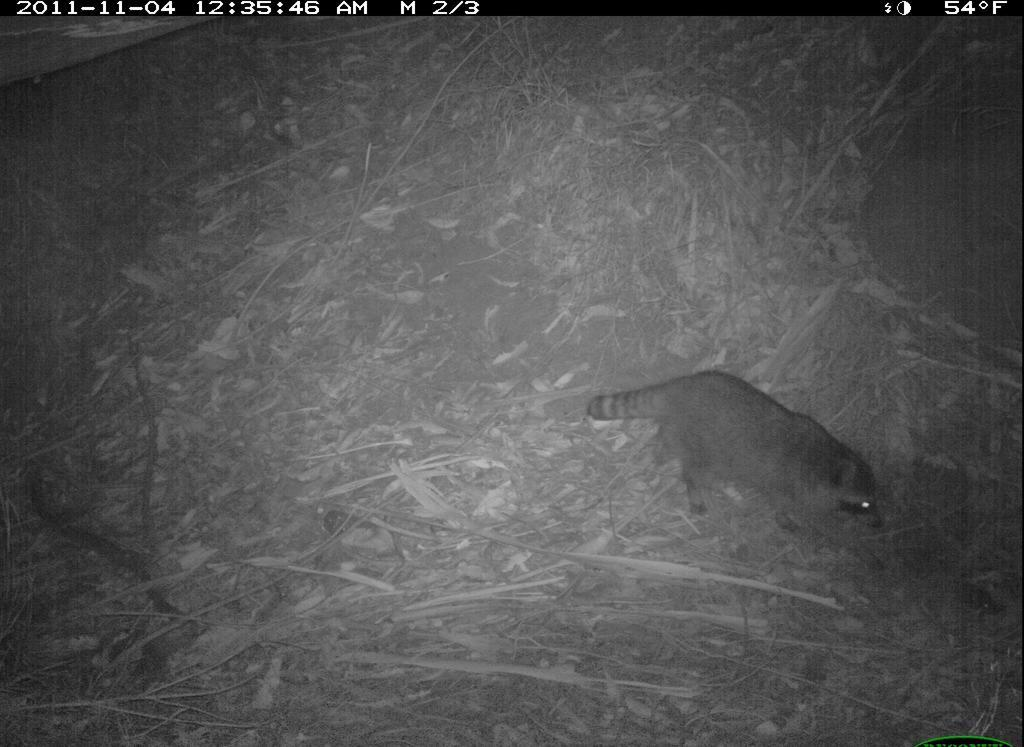raccoon: (579, 363, 895, 560)
